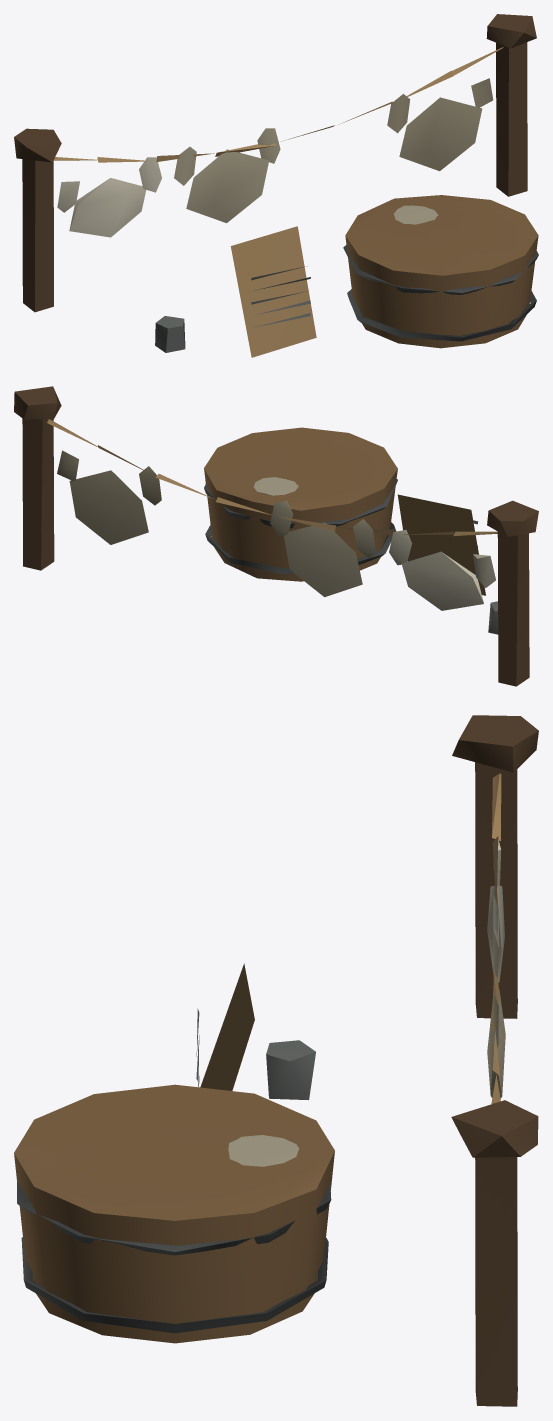
The model's file is washline_b_lod2.glb.
The picture shows the model from 3 angles, top to bottom: view 1: azimuth 30°, elevation 25°; view 2: azimuth 150°, elevation 25°; view 3: azimuth 270°, elevation 25°; orthographic projection. The views are drawn at different scales.
Parts seen in each view (by area): view 1: Surface.001; view 2: Surface.001; view 3: Surface.001.
Boxes of the visible parts, x1,y1,x2,y2 form: Surface.001: (14, 14, 538, 357); Surface.001: (14, 386, 538, 686); Surface.001: (14, 715, 538, 1406).
Bounding box in the file's own units: 4.37 × 1.47 × 2.29.
